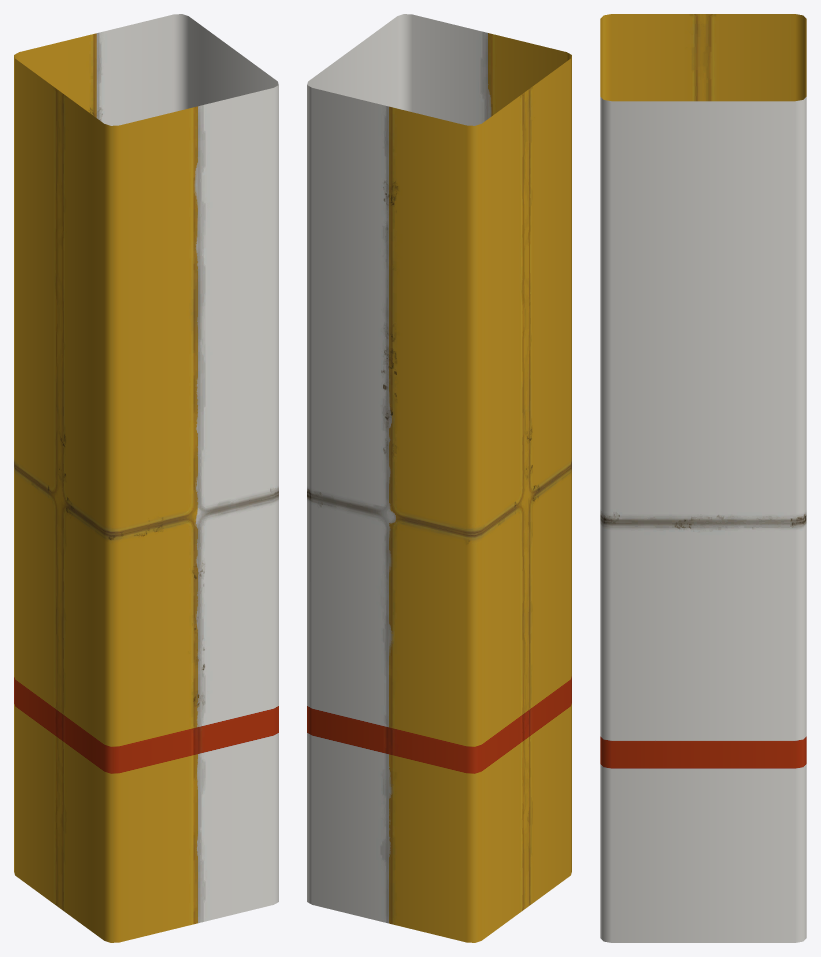
The model's file is Pillar.dae.
3 renders of one model, left to right at view 1: azimuth 30°, elevation 25°; view 2: azimuth 150°, elevation 25°; view 3: azimuth 270°, elevation 25°, orthographic. The views are drawn at different scales.
Visible parts, largest first — view 1: pCube9; view 2: pCube9; view 3: pCube9.
Part boxes in pixels (box(x1,y1,x2,y2)): pCube9: box(14, 14, 278, 942); pCube9: box(307, 14, 571, 942); pCube9: box(600, 14, 806, 942).
Size of the model in its own units: 0.9995 by 4.5 by 0.9995.
1 material, 1 textured.
